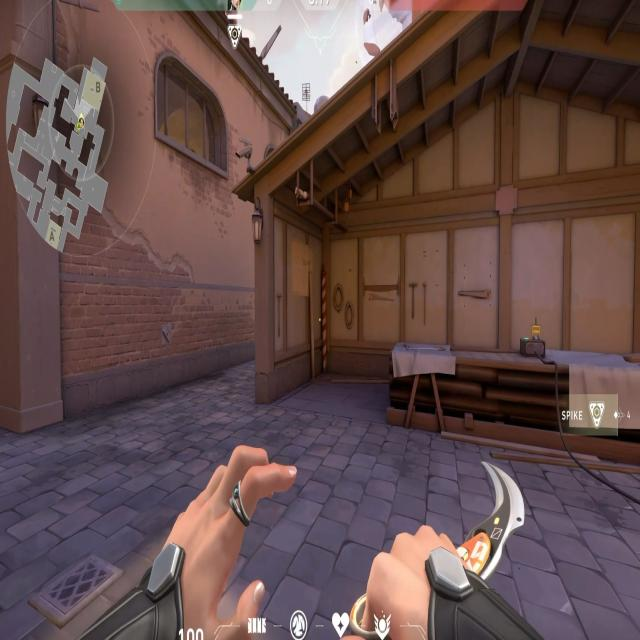B_Garage_Left: (252, 191, 470, 464)
Throwables: (150, 34, 231, 191)
